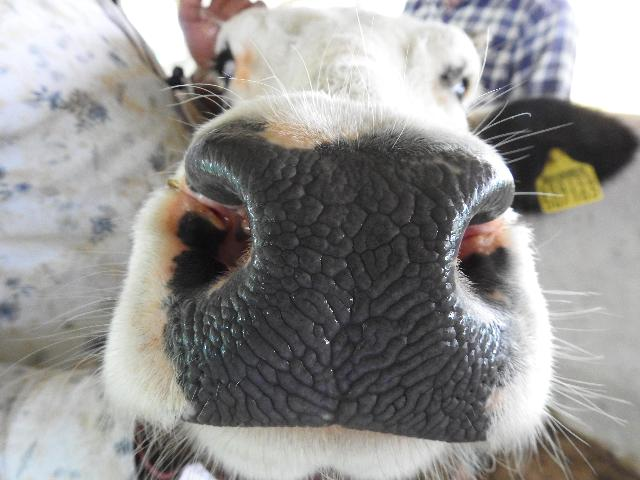Muzzle: (199, 139, 486, 438)
